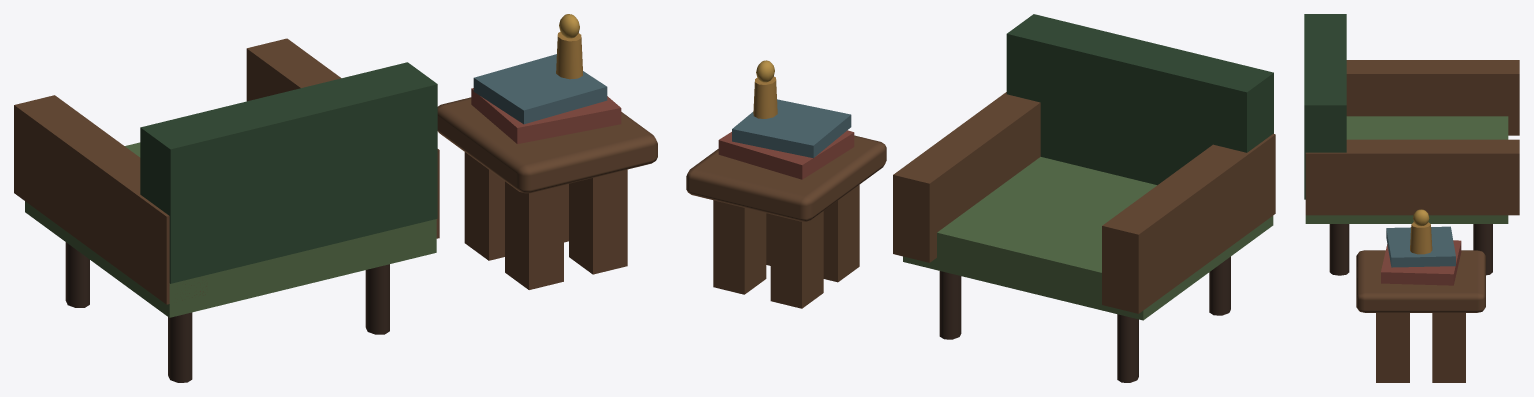
Rendered from reading_nook.glb.
The picture shows the model from 3 angles, left to right: view 1: azimuth 30°, elevation 25°; view 2: azimuth 150°, elevation 25°; view 3: azimuth 270°, elevation 25°; orthographic projection. The views are drawn at different scales.
Visible parts, largest first — view 1: reading_nook; view 2: reading_nook; view 3: reading_nook.
Part boxes in pixels (x1,y1,x2,y2): reading_nook: (14,14,657,382); reading_nook: (686,14,1275,382); reading_nook: (1304,14,1519,382).
Size of the model in its own units: 2.4 by 1.2 by 1.2.
Materials: 1 (1 with a texture image).
